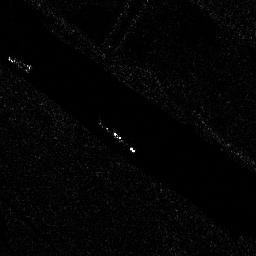ship: (97, 117, 137, 156), (6, 53, 34, 74)
